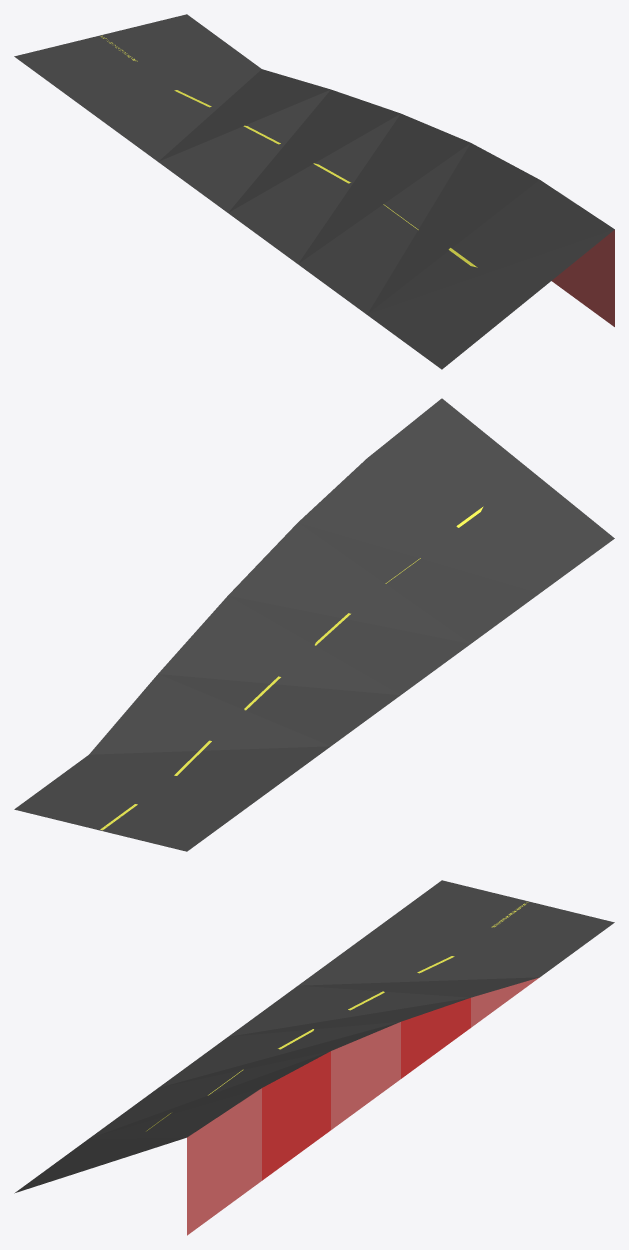
The model's file is lban.obj.
3 views of the same model, one above another, from view 1: azimuth 30°, elevation 25°; view 2: azimuth 150°, elevation 25°; view 3: azimuth 330°, elevation 25° (orthographic).
Bounding box in the file's own units: 240 × 130 × 1028.
